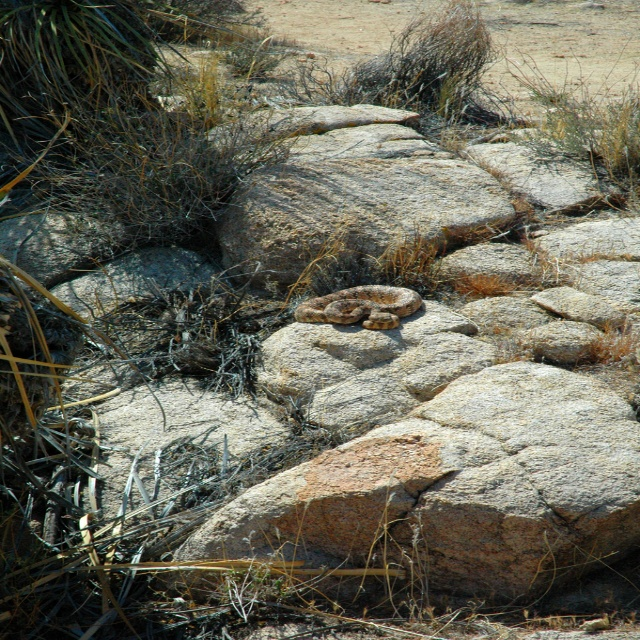Snake: (290, 284, 425, 328)
